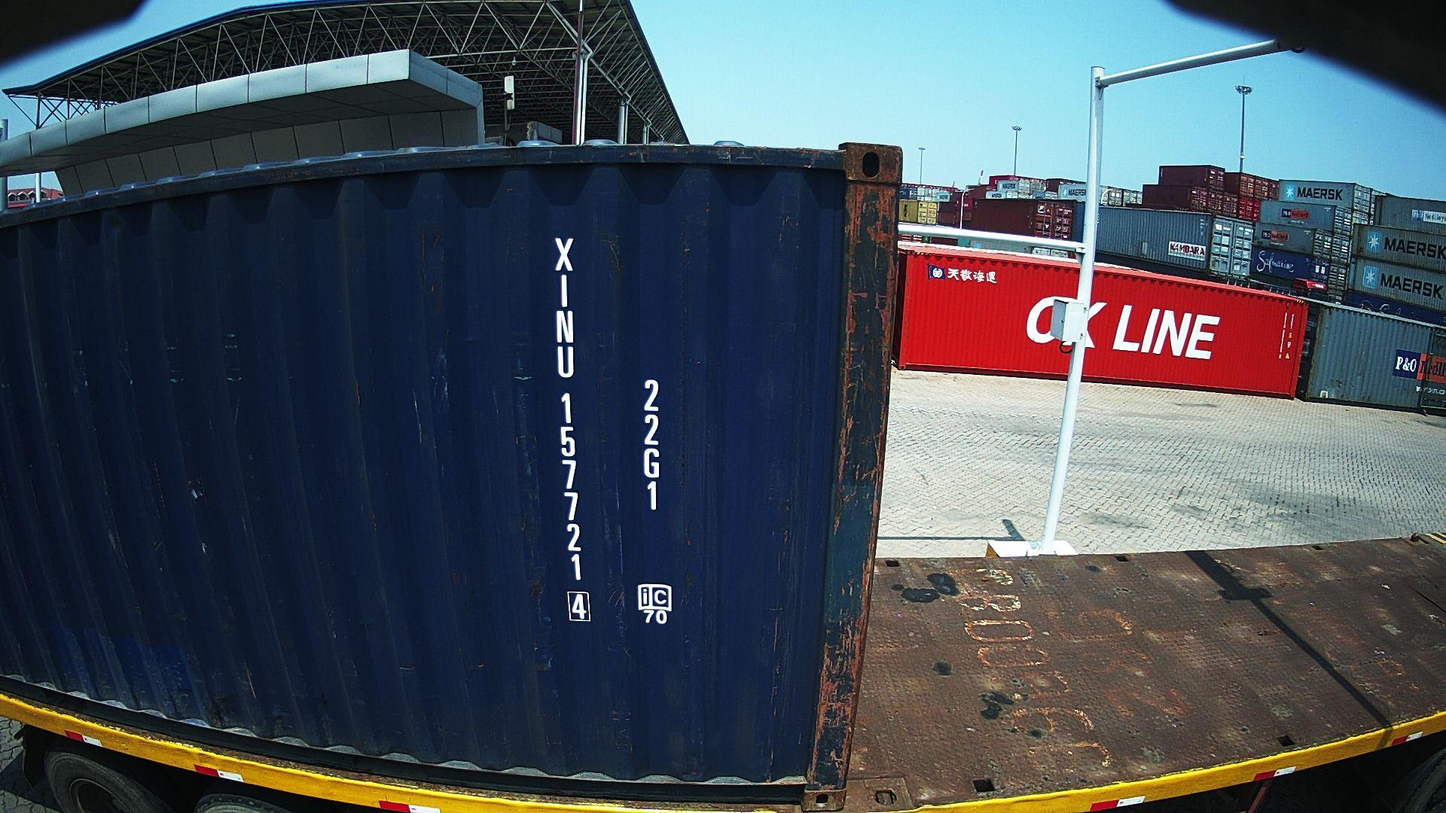container-numbers: (548, 233, 594, 628), (637, 375, 667, 516)
